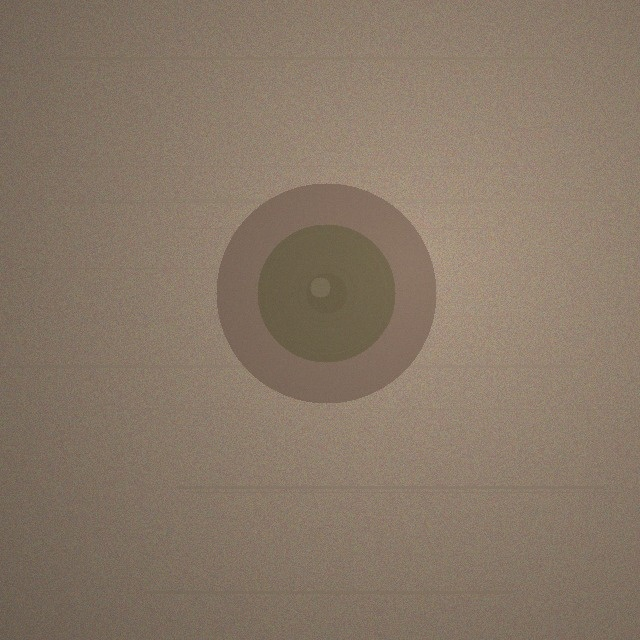good: (216, 183, 436, 403)
